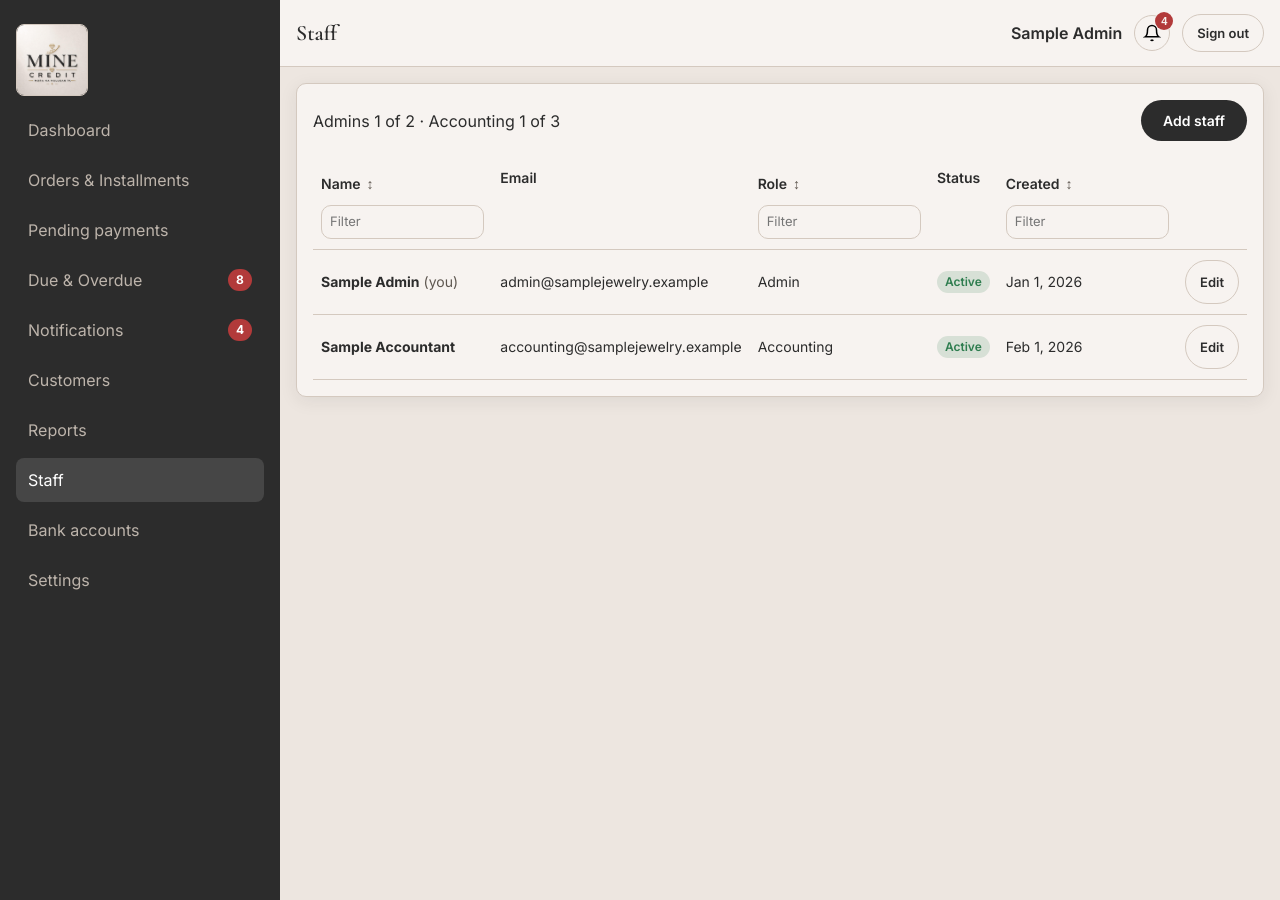
Scenario: admin staff page › locks role and active on the signed-in admin row
Expected: the text "Sample Accountant" is shown, left=321, top=338, right=455, bottom=355
What coordinates should you click on to do the following:
click the button with aria-label "Edit Sample Admin"
I would click on:
 (1212, 282)
Its box is left=1185, top=260, right=1239, bottom=304.
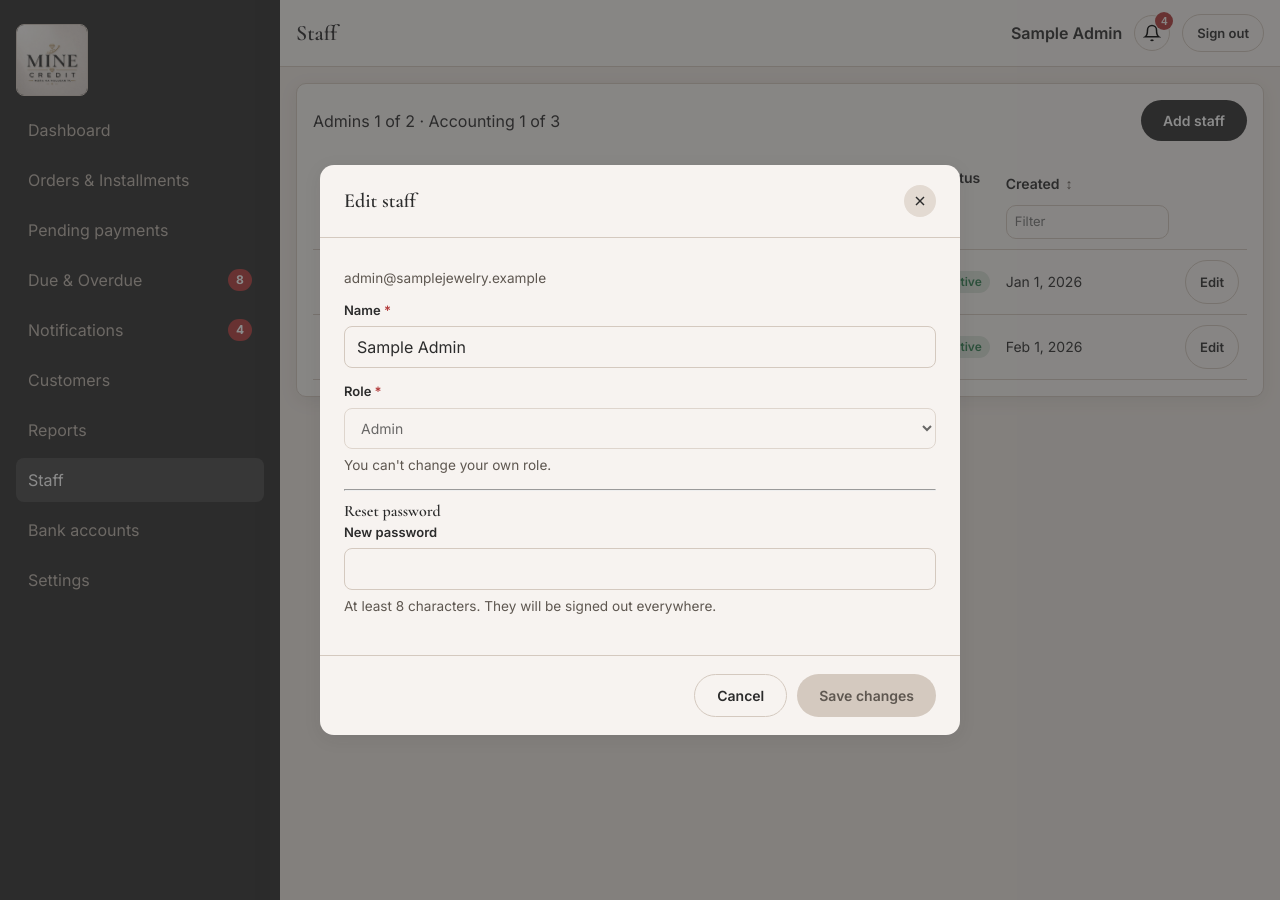
Now the dropdown labelled "Role" is disabled, box left=344, top=408, right=936, bottom=448
Now the text "You can't change your own role." is shown, box left=344, top=456, right=551, bottom=472
